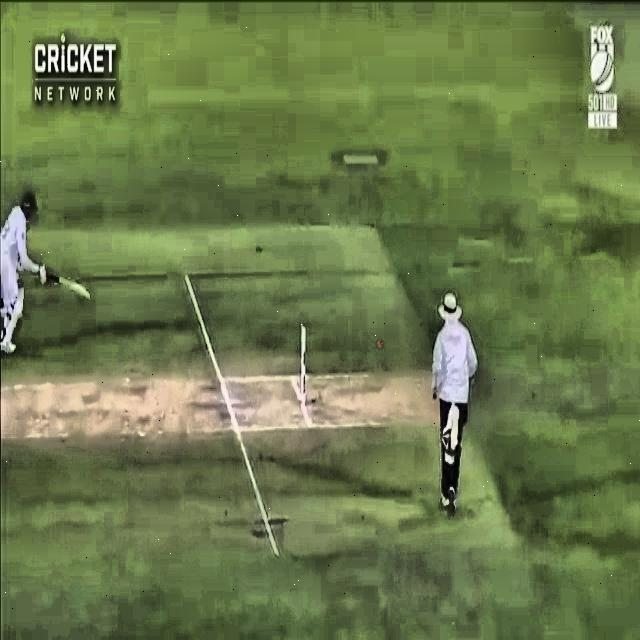Ball: (368, 329, 396, 362)
Bat: (30, 264, 93, 302)
Pitch_Line: (177, 276, 283, 556)
Undis_Wicket: (283, 317, 326, 421)
